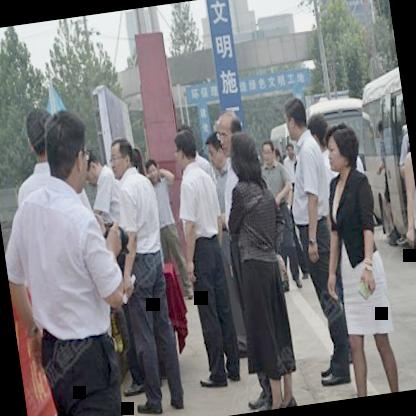head: (36, 106, 98, 190), (319, 121, 363, 178), (226, 128, 266, 184), (25, 100, 56, 164), (280, 92, 310, 142), (215, 108, 246, 156), (105, 134, 134, 180), (170, 124, 200, 168), (305, 106, 334, 151), (202, 131, 225, 172), (143, 152, 161, 184), (258, 138, 276, 167)
